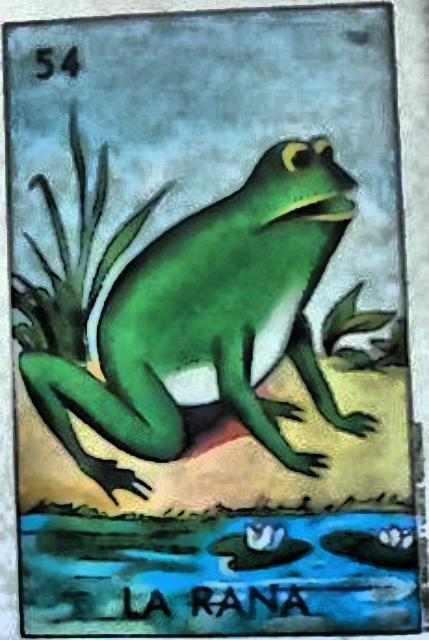La Rana: (7, 6, 420, 634)
